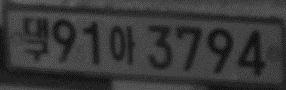1: (80, 20, 105, 65)
3: (146, 24, 173, 68)
4: (236, 28, 266, 75)
7: (176, 24, 203, 71)
9: (205, 27, 233, 73), (52, 18, 77, 62)
대구_V: (22, 15, 48, 61)
아: (109, 24, 137, 65)
